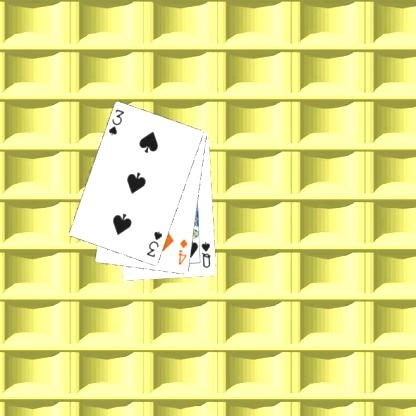3S: (144, 228, 164, 259), (106, 106, 126, 137)
4D: (175, 236, 189, 267)
QS: (199, 239, 213, 269)
